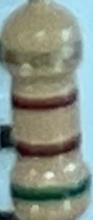Brown: (12, 90, 78, 111), (16, 140, 81, 154)
Green: (14, 180, 89, 201)
Side-Gold: (4, 44, 81, 61)
